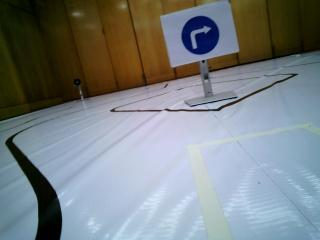right: (165, 16, 229, 55)
